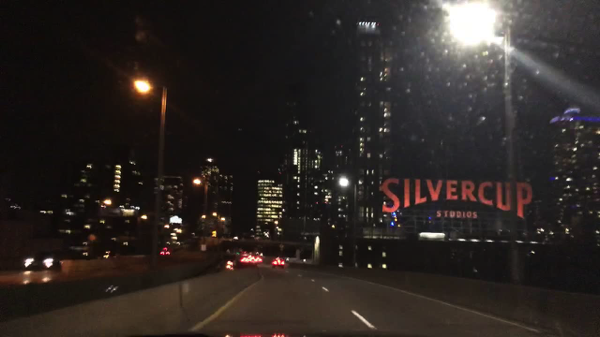car: (22, 247, 89, 271), (95, 283, 140, 298), (272, 257, 286, 270), (219, 258, 234, 270), (103, 251, 122, 260), (238, 252, 249, 265), (161, 247, 173, 257), (221, 233, 233, 242), (256, 252, 263, 263), (250, 254, 257, 264)
traffic sign: (278, 242, 285, 250), (88, 235, 96, 242), (200, 244, 206, 251), (212, 231, 217, 238)
